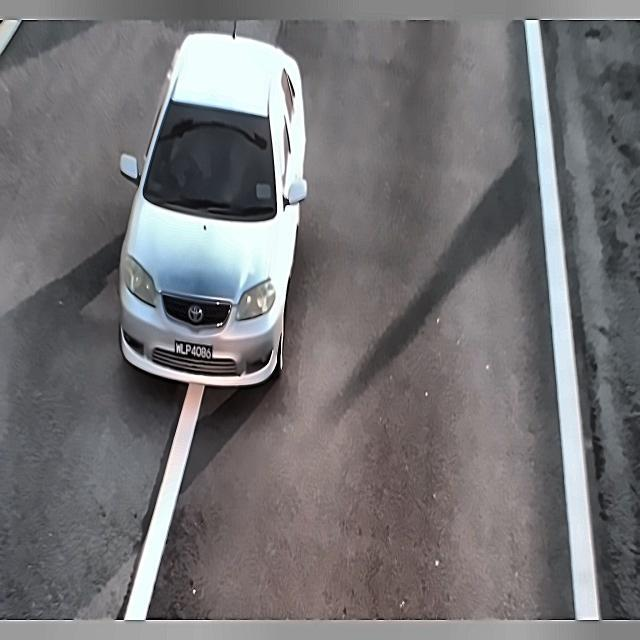car: (167, 336, 216, 366)
